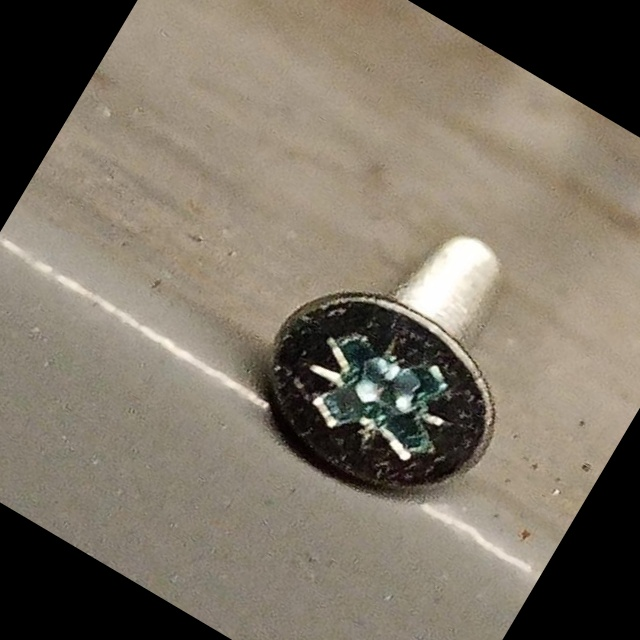pozidriv: (229, 254, 531, 537)
